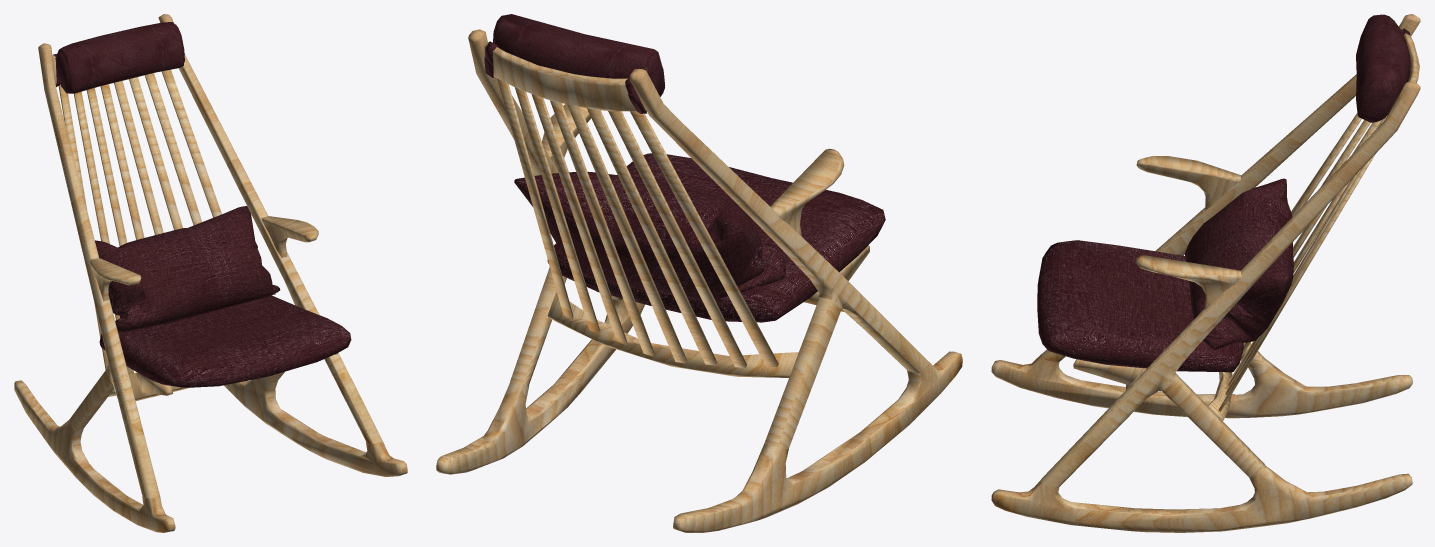
Rendered from movable_restzone_rocking_chair.gltf.
3 views of the same model, side by side, from view 1: azimuth 30°, elevation 25°; view 2: azimuth 150°, elevation 25°; view 3: azimuth 270°, elevation 25° (orthographic). The views are drawn at different scales.
Parts seen in each view (by area): view 1: RestzoneRockingChair; view 2: RestzoneRockingChair; view 3: RestzoneRockingChair.
Part boxes in pixels (x1,y1,x2,y2): RestzoneRockingChair: (14,14,407,532); RestzoneRockingChair: (436,14,962,532); RestzoneRockingChair: (991,14,1420,532).
Bounding box in the file's own units: 0.6134 × 0.9082 × 0.8252.
2 materials, 2 textured.
